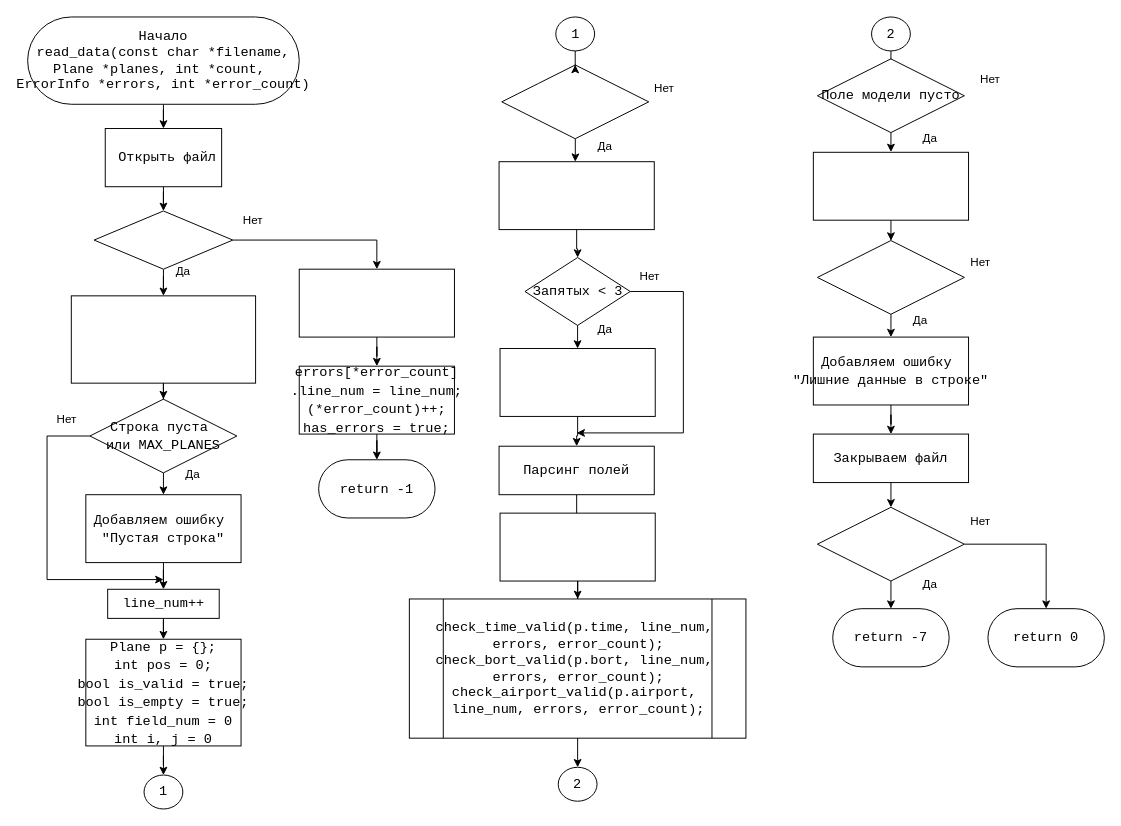
Image size: 1121x826. Some labels were removed from this diagram. Here are the shapes that lost their labels. From the top down, the box of each, then its label:
(501, 64, 649, 139): Все символы строки - пробелы
(498, 161, 654, 230): Добавляем ошибку "Пустая строка"
(812, 151, 969, 220): Добавляем ошибку "Пустое поле модели"
(93, 210, 233, 269): Файл открыт?
(816, 240, 964, 314): Есть лишние данные
(298, 268, 454, 337): Добавляем ошибку "Не существует файла"
(70, 295, 256, 383): char line[100]; int line_num = 0; bool has_errors = false; int i, j = 0;
(499, 348, 655, 416): Добавляем ошибку " Неправильное построение строки "
(499, 512, 655, 581): purify(p.time); purify(p.model); purify(p.bort); purify(p.airport);
(816, 506, 964, 581): Есть хотя бы одна ошибка
